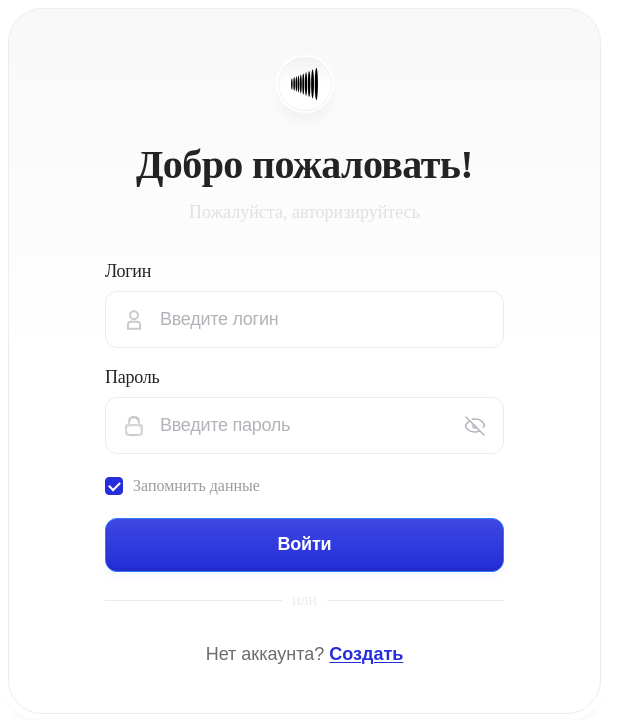
Test case: LoginForm › shows validation errors for empty fields
Click the button "Войти". click: (304, 545)
box: [105,518,504,572]
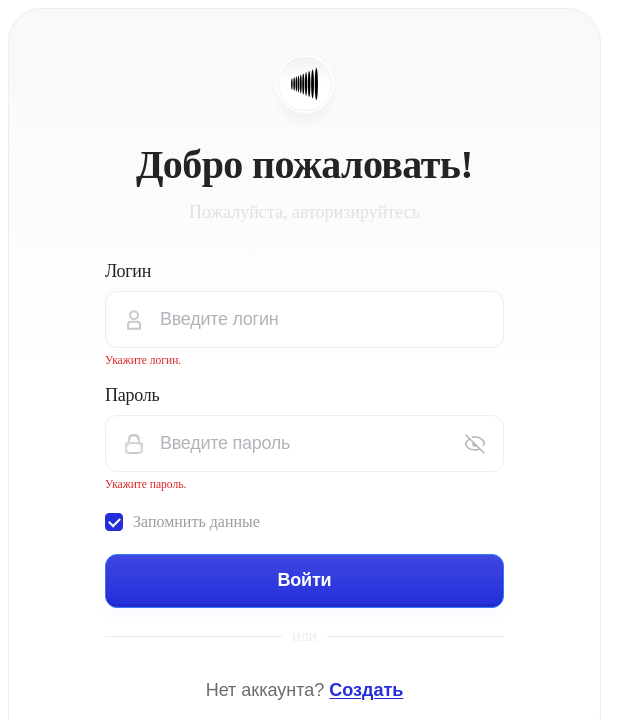
Now the text "Укажите логин." is shown, box [105,354,181,366]
Now the text "Укажите пароль." is shown, box [105,478,186,490]
